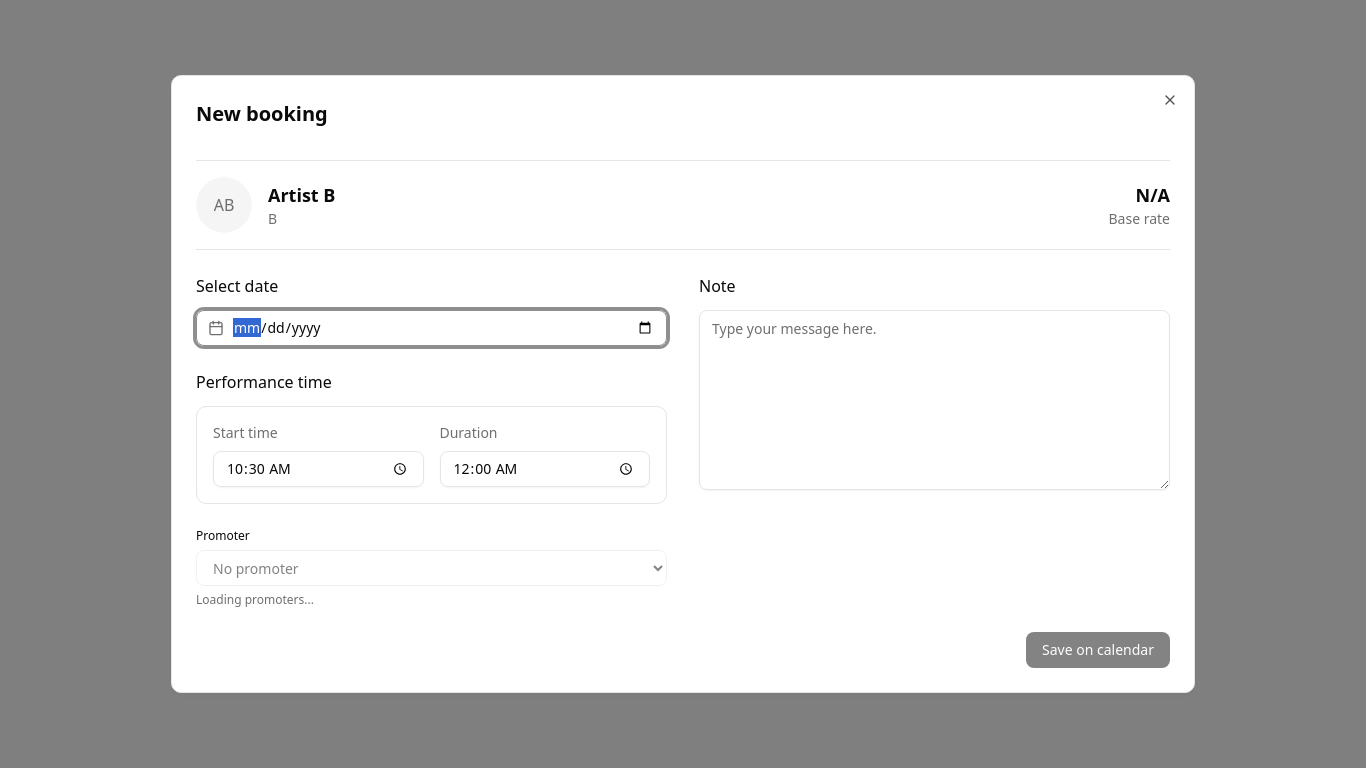
Test: BB-09: ignores old reopen-other-session success completion without releasing a newer save
Earlier steps of the test are not shown.
Later steps or results of the test are not shown.
Type "2030-01-03" into the date field labelled "Select date" at (432, 328), box [196, 310, 667, 346]
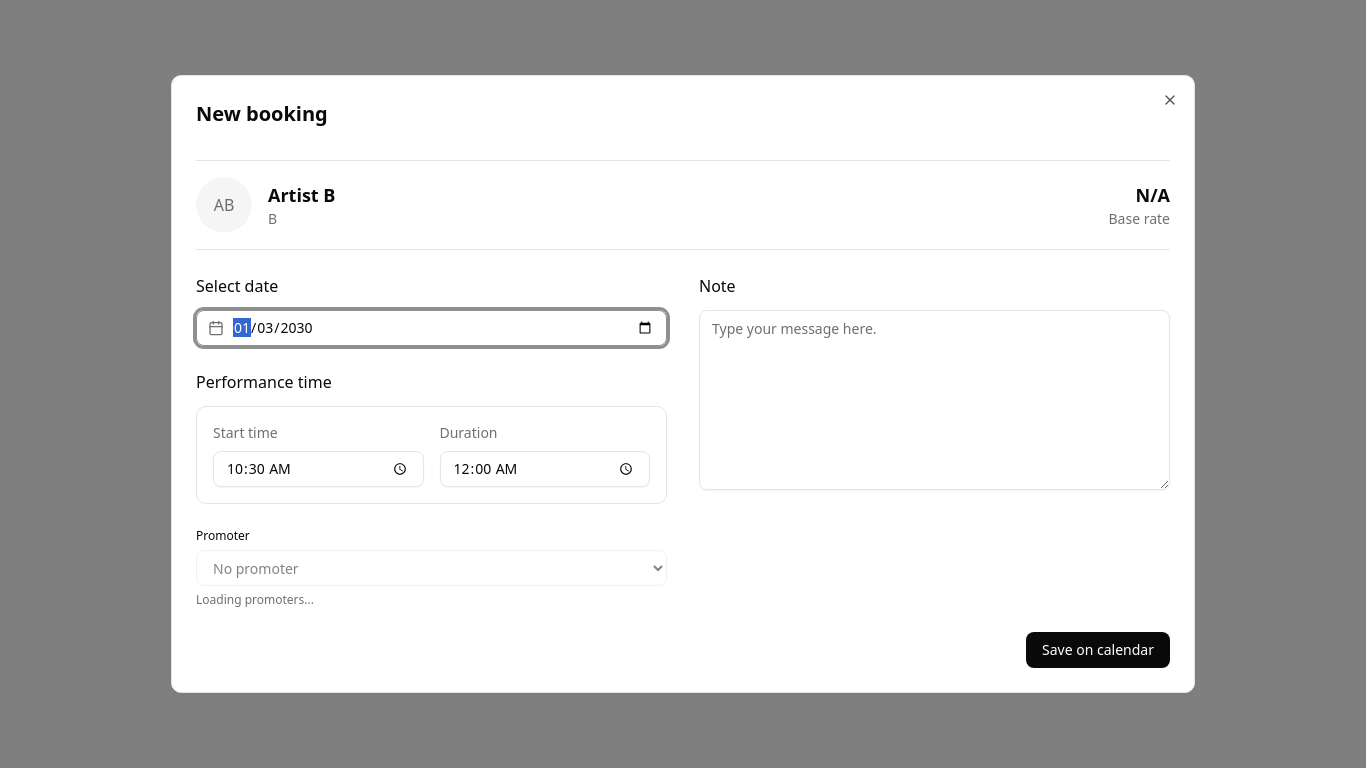
Result: the button "Save on calendar" is enabled
Click the button "Save on calendar" at (1098, 650), box [1026, 632, 1170, 668]
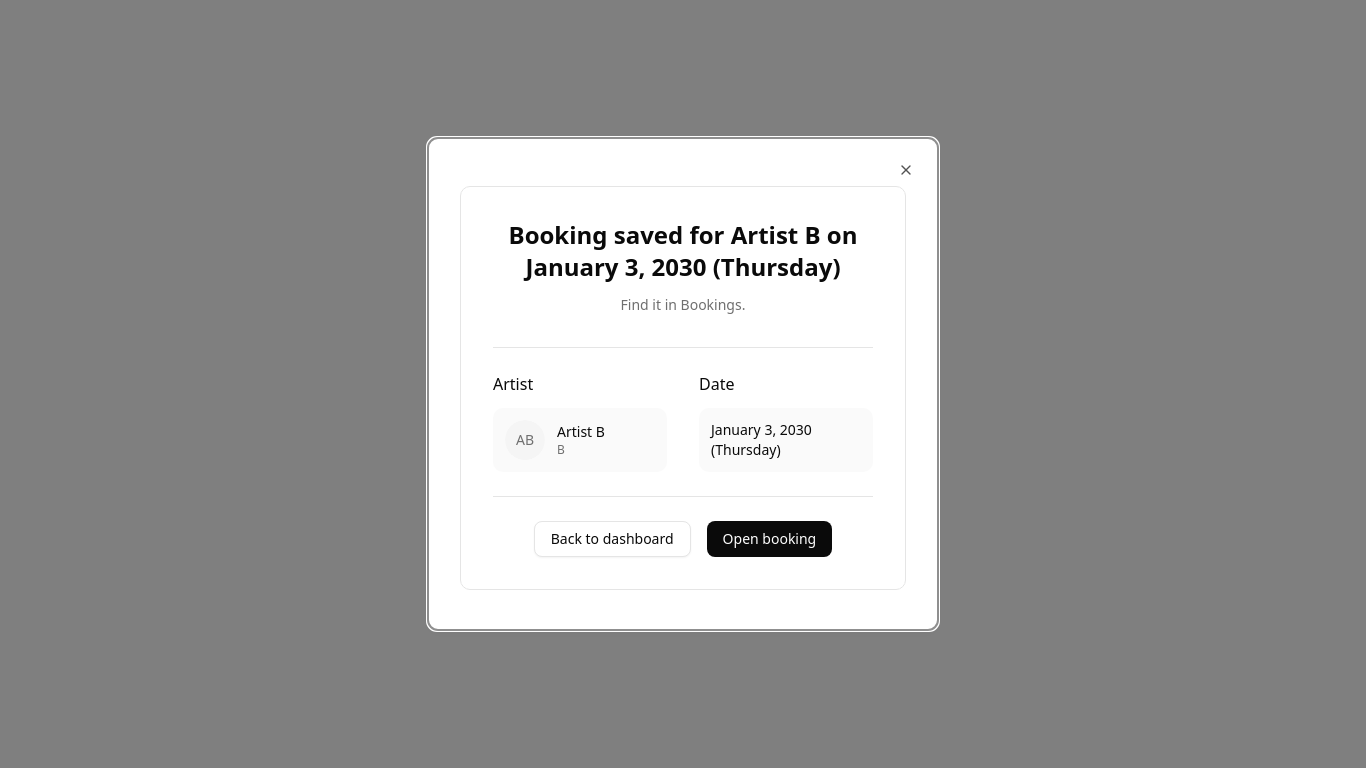
Result: the text "Artist B" is shown at [557, 422, 605, 442]
